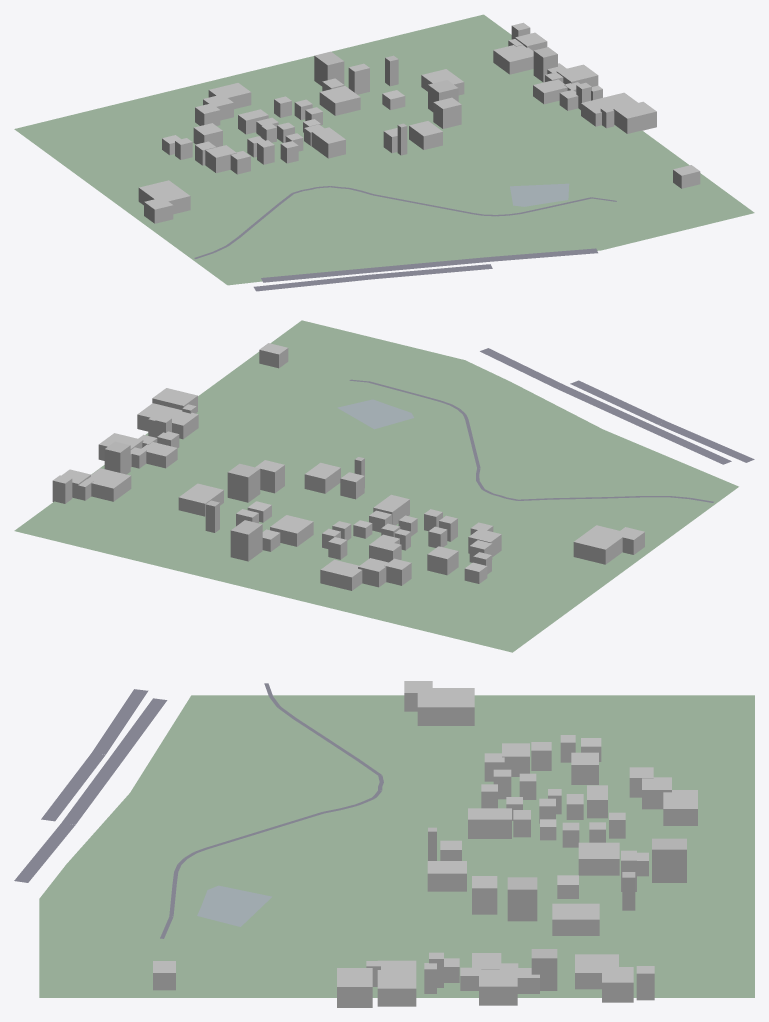
File: 136_81_mid.glb
3 renders of one model, top to bottom at view 1: azimuth 30°, elevation 25°; view 2: azimuth 150°, elevation 25°; view 3: azimuth 270°, elevation 25°, orthographic. The views are drawn at different scales.
Size of the model in its own units: 521 by 29.63 by 518.
